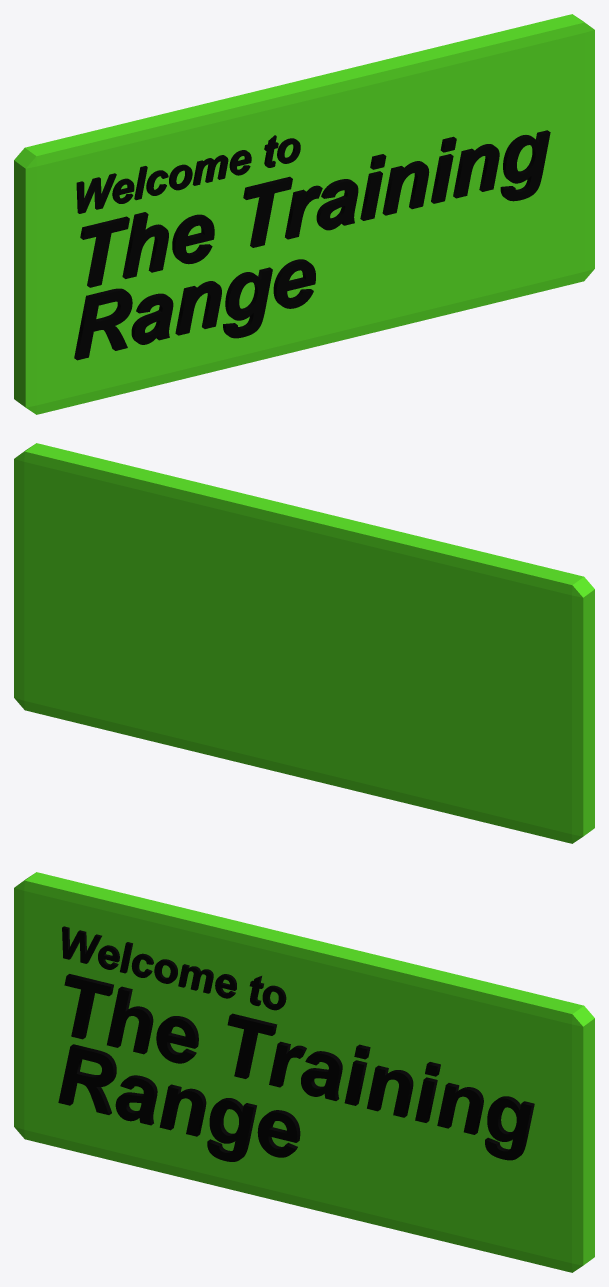
Rendered from TR_WelcomeBoard.fbx.
3 views of the same model, one above another, from view 1: azimuth 30°, elevation 25°; view 2: azimuth 150°, elevation 25°; view 3: azimuth 330°, elevation 25° (orthographic).
Parts seen in each view (by area): view 1: Welcome_Board; view 2: Welcome_Board; view 3: Welcome_Board.
Part boxes in pixels (x1=…): Welcome_Board: x1=14, y1=14, x2=594, y2=414; Welcome_Board: x1=14, y1=443, x2=594, y2=843; Welcome_Board: x1=14, y1=872, x2=594, y2=1272.
Bounding box in the file's own units: 1007 × 437 × 48.3.
